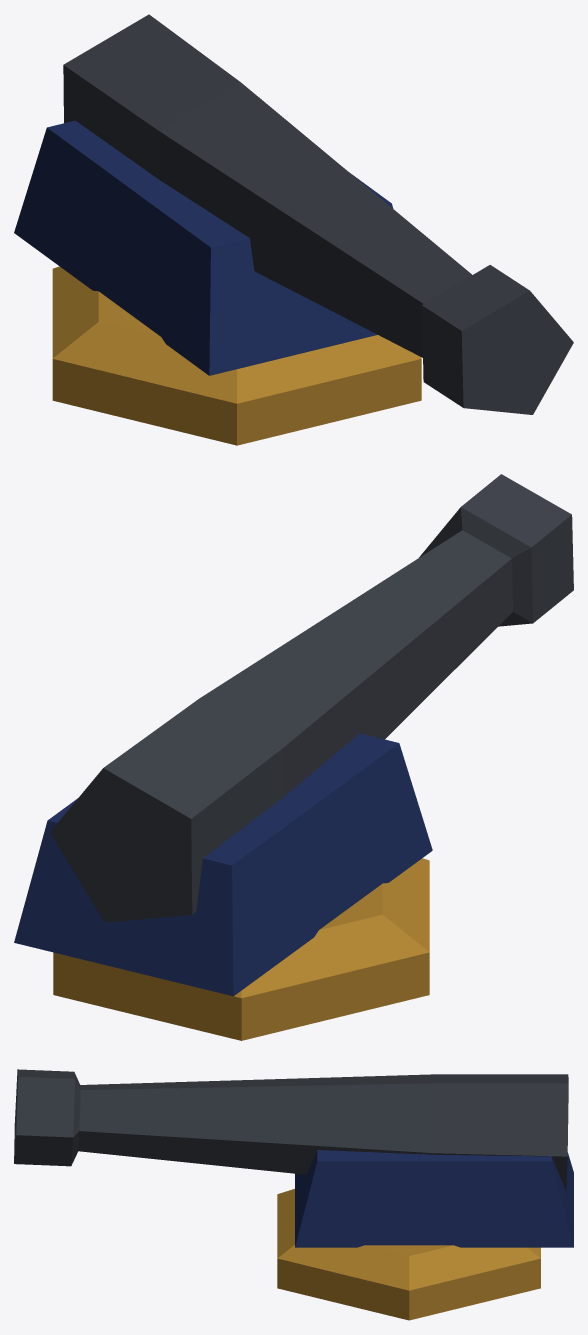
Rendered from SM_Prop_SiegeCannon_LQ.glb.
3 views of the same model, one above another, from view 1: azimuth 30°, elevation 25°; view 2: azimuth 150°, elevation 25°; view 3: azimuth 270°, elevation 25° (orthographic). The views are drawn at different scales.
Visible parts, largest first — view 1: SM_Prop_SiegeCannon_LQ; view 2: SM_Prop_SiegeCannon_LQ; view 3: SM_Prop_SiegeCannon_LQ.
Part boxes in pixels (left/top/right/bottom): SM_Prop_SiegeCannon_LQ: left=14, top=14, right=573, bottom=445; SM_Prop_SiegeCannon_LQ: left=14, top=474, right=573, bottom=1040; SM_Prop_SiegeCannon_LQ: left=14, top=1069, right=573, bottom=1320.
Bounding box in the file's own units: 2.4 × 1.62 × 4.42.
Materials: 1 (1 with a texture image).
